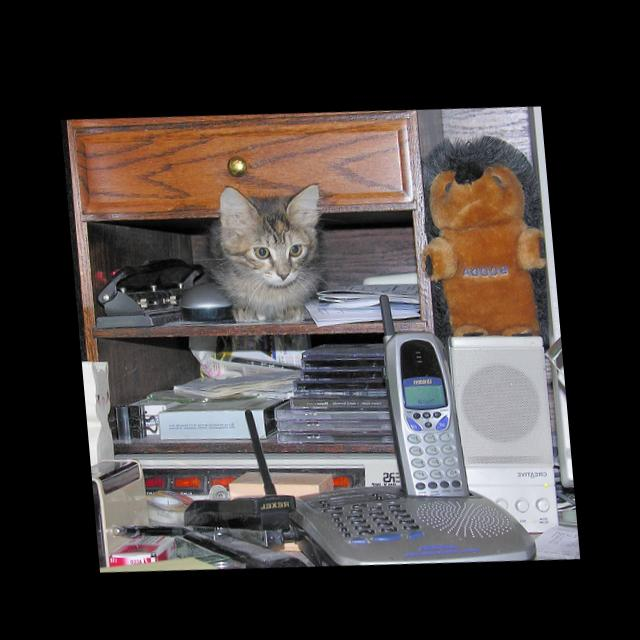animals: (220, 175, 326, 281)
